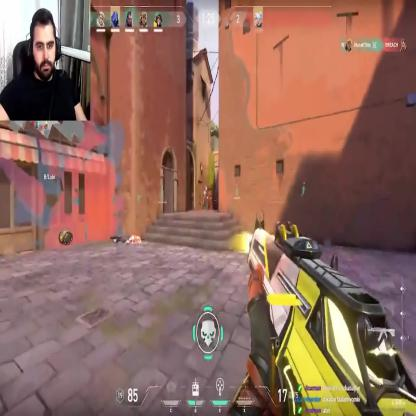enemy: (202, 185, 208, 210)
enemy_head: (204, 186, 207, 191)
